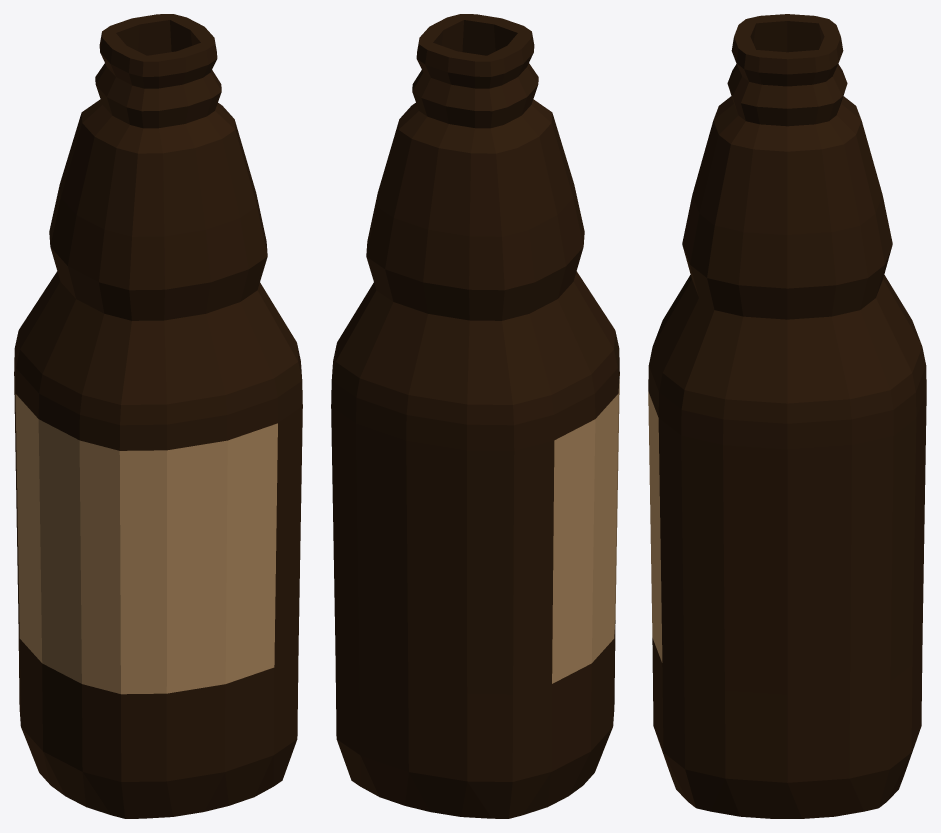
Rendered from bouteille_biere.fbx.
The picture shows the model from 3 angles, left to right: view 1: azimuth 30°, elevation 25°; view 2: azimuth 150°, elevation 25°; view 3: azimuth 270°, elevation 25°; orthographic projection.
Parts seen in each view (by area): view 1: bouteille_bierre; view 2: bouteille_bierre; view 3: bouteille_bierre.
Boxes of the visible parts, bbox=[...] form: bouteille_bierre: bbox=[14, 14, 302, 818]; bouteille_bierre: bbox=[331, 14, 619, 818]; bouteille_bierre: bbox=[648, 14, 926, 818].
Bounding box in the file's own units: 34.54 × 100 × 34.54.
